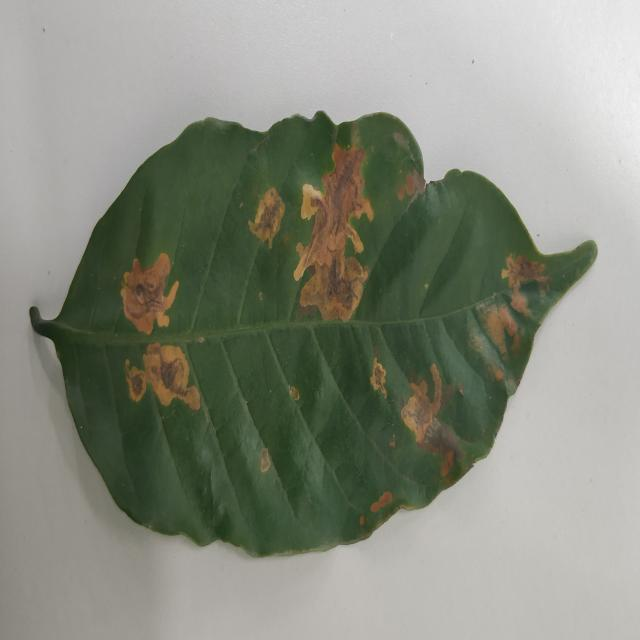Plaga-Minador: (29, 112, 599, 562)
